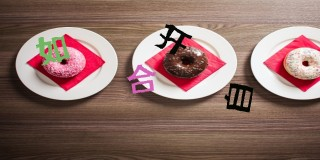合: (125, 64, 157, 95)
如: (33, 32, 70, 66)
开: (156, 22, 192, 57)
自: (222, 82, 257, 114)
